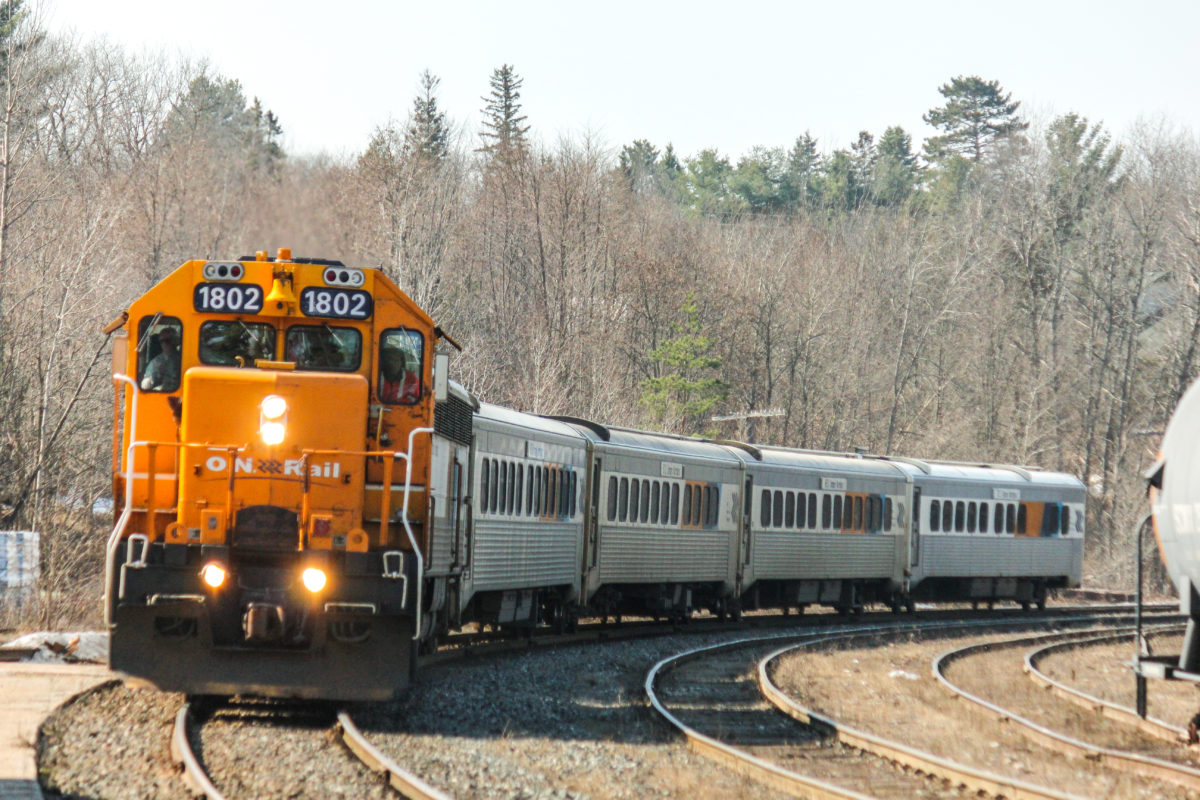train: (109, 246, 1095, 693)
